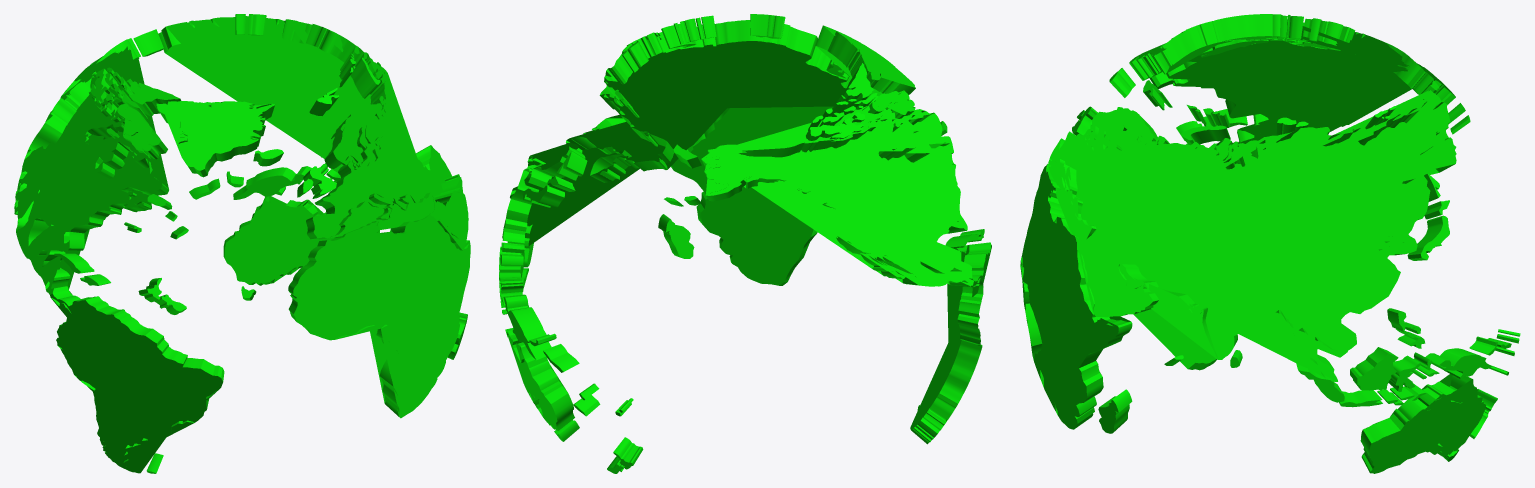
Rendered from Earth_Land.fbx.
The picture shows the model from 3 angles, left to right: view 1: azimuth 30°, elevation 25°; view 2: azimuth 150°, elevation 25°; view 3: azimuth 270°, elevation 25°; orthographic projection. The views are drawn at different scales.
Visible parts, largest first — view 1: pPlane2; view 2: pPlane2; view 3: pPlane2.
Boxes of the visible parts, x1=… form: pPlane2: x1=14, y1=14, x2=470, y2=473; pPlane2: x1=499, y1=14, x2=991, y2=473; pPlane2: x1=1020, y1=14, x2=1520, y2=473.
Size of the model in its own units: 8.28 by 6.93 by 8.25.
